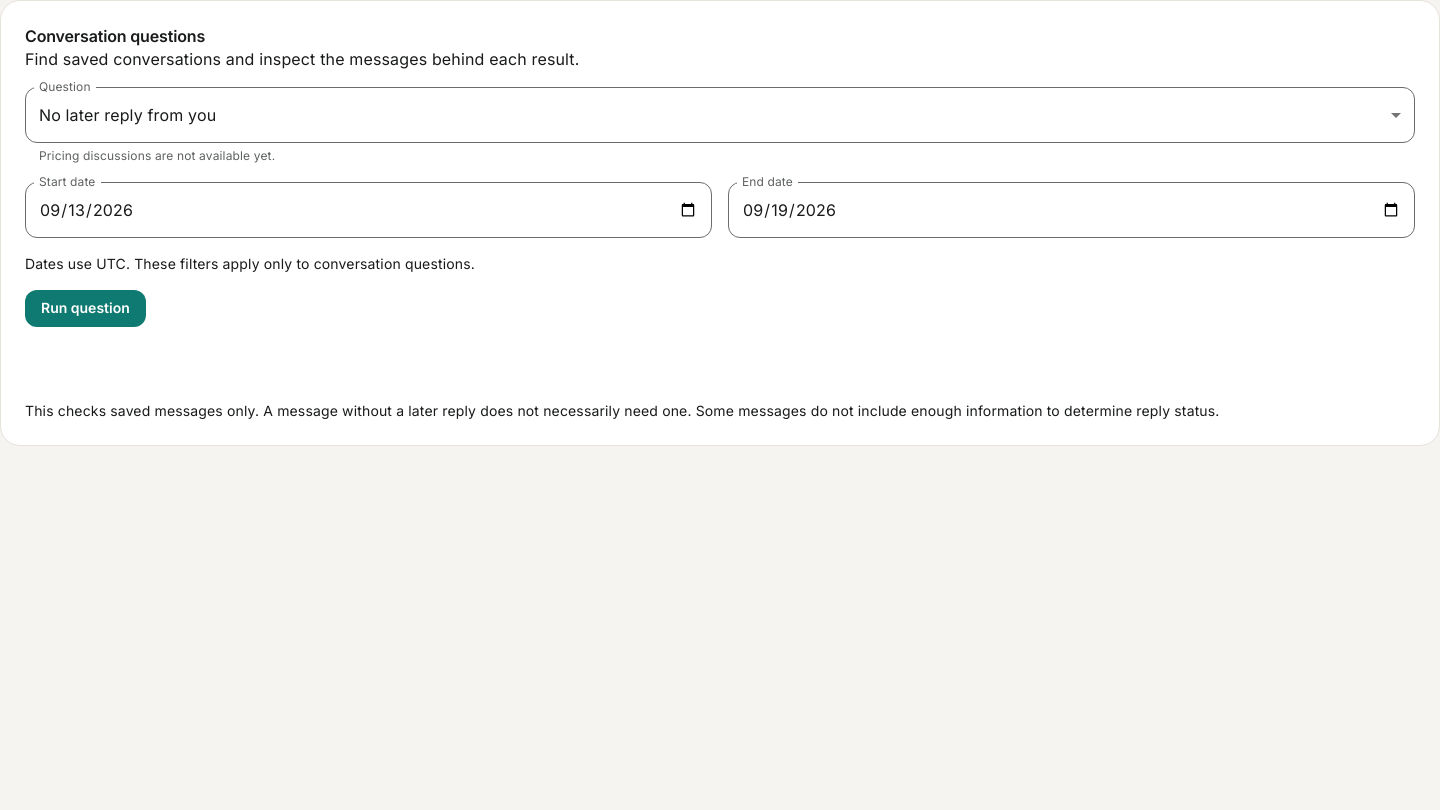
Scenario: Conversation questions › distinguishes unknown reply status from an empty match list
This screenshot has width=1440, height=810.
Click the button "Run question". click: (85, 309)
box: [25,290,146,327]
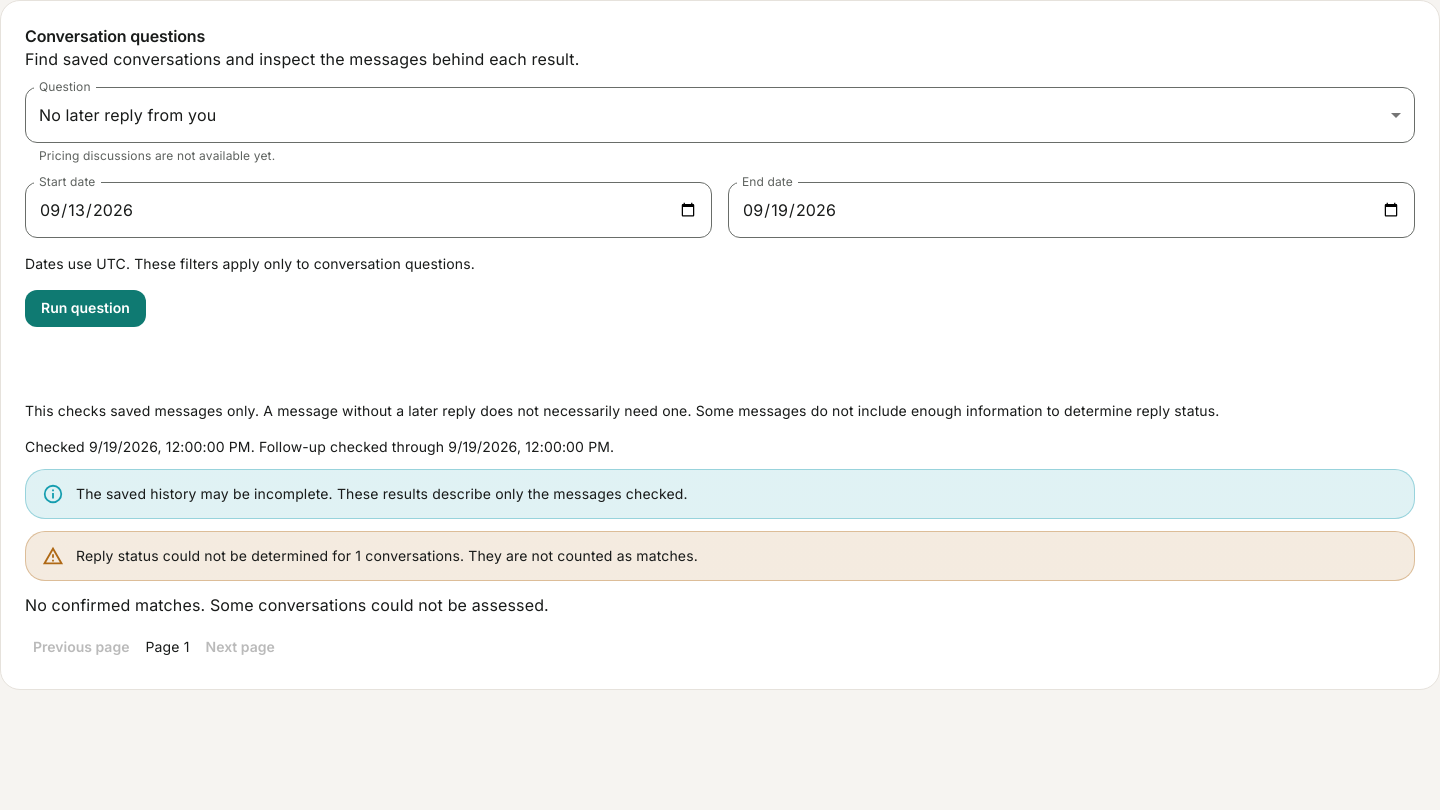
Expected: the text "Checked " is shown, [25,438,89,455]
Expected: the text "Reply status could not be determined" is shown, [76,547,698,564]
